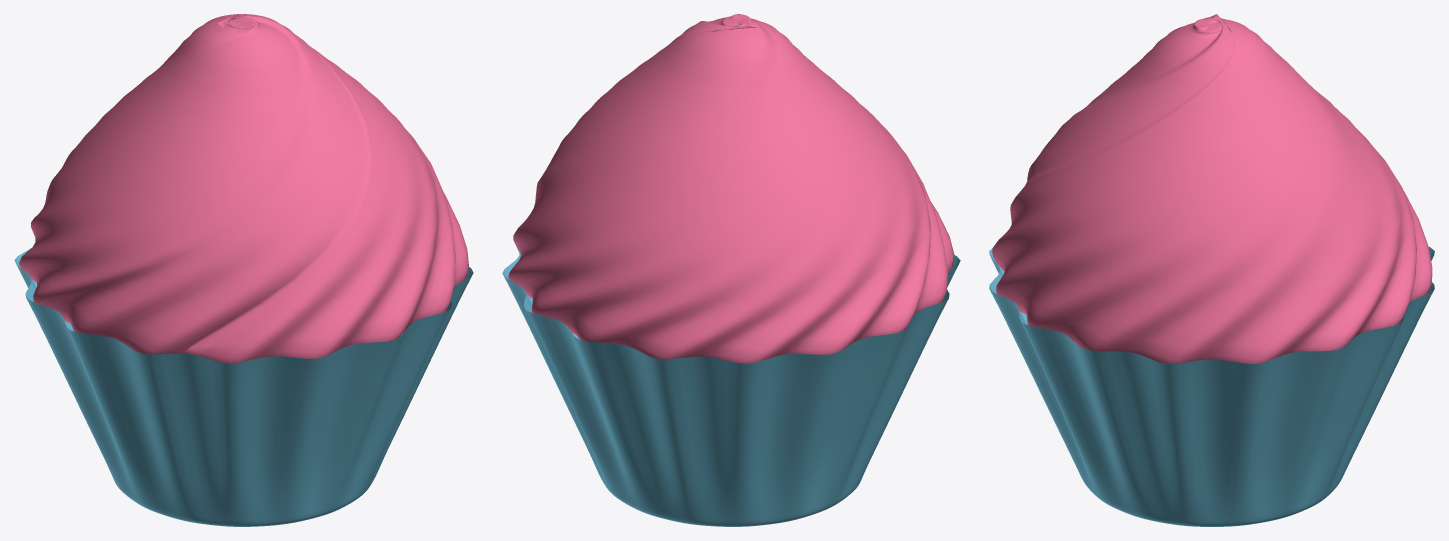
File: Cupcake.fbx
3 renders of one model, left to right at view 1: azimuth 30°, elevation 25°; view 2: azimuth 150°, elevation 25°; view 3: azimuth 270°, elevation 25°, orthographic.
Parts seen in each view (by area): view 1: CupcakeTop, CupcakeBase; view 2: CupcakeTop, CupcakeBase; view 3: CupcakeTop, CupcakeBase.
Part boxes in pixels (x1,y1,x2,y2): CupcakeTop: (19, 14, 468, 363); CupcakeBase: (14, 248, 473, 526); CupcakeTop: (508, 14, 954, 363); CupcakeBase: (502, 246, 960, 526); CupcakeTop: (992, 14, 1432, 363); CupcakeBase: (989, 247, 1434, 526).
Size of the model in its own units: 605 by 673 by 605.
